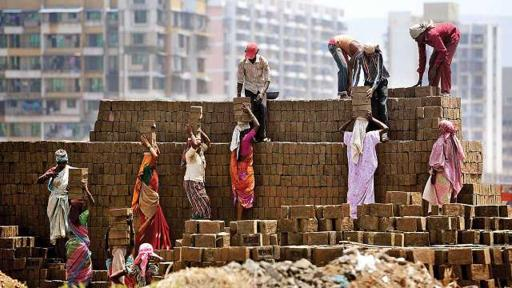unsafe person: (344, 87, 378, 201), (407, 22, 462, 92), (179, 106, 211, 216), (70, 167, 98, 287), (427, 121, 466, 202), (138, 119, 165, 234), (231, 97, 257, 214), (104, 207, 135, 288), (42, 149, 68, 228), (330, 34, 371, 83), (237, 40, 267, 89), (137, 241, 164, 284)
